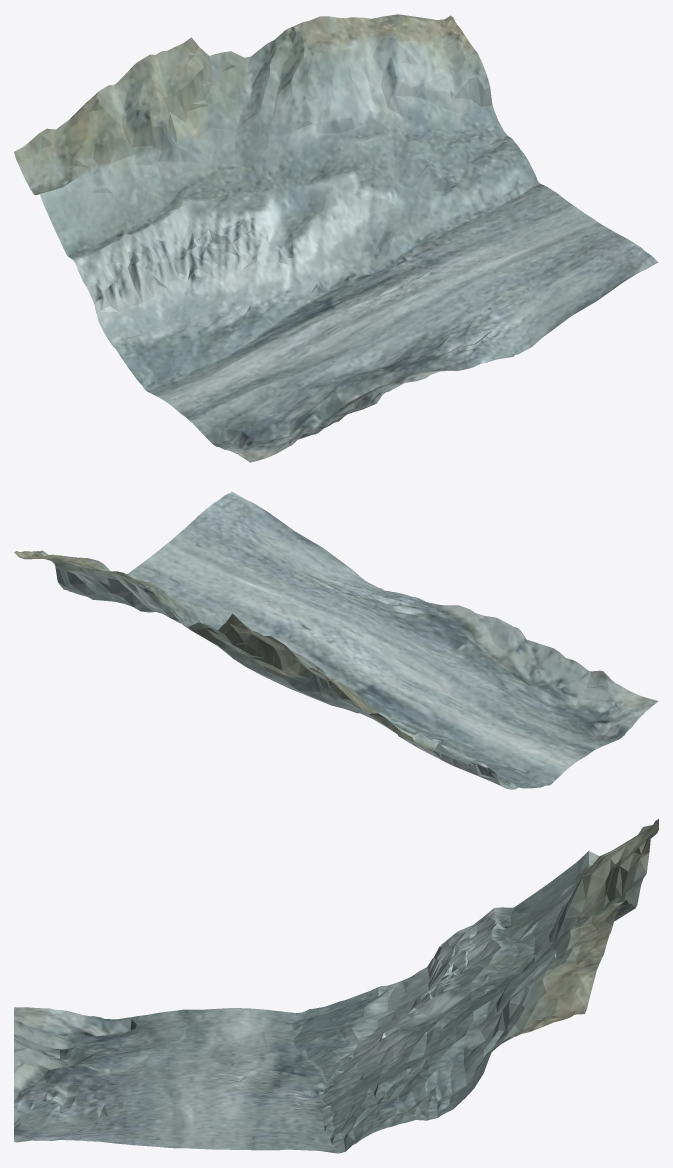
3 renders of one model, top to bottom at view 1: azimuth 30°, elevation 25°; view 2: azimuth 150°, elevation 25°; view 3: azimuth 270°, elevation 25°, orthographic. The views are drawn at different scales.
Parts seen in each view (by area): view 1: Plane; view 2: Plane; view 3: Plane.
Part boxes in pixels (x1,y1,x2,y2): Plane: [14, 14, 658, 462]; Plane: [14, 491, 658, 789]; Plane: [14, 819, 658, 1153].
Bounding box in the file's own units: 0.6 × 0.3187 × 0.6.
Materials: 1 (1 with a texture image).
